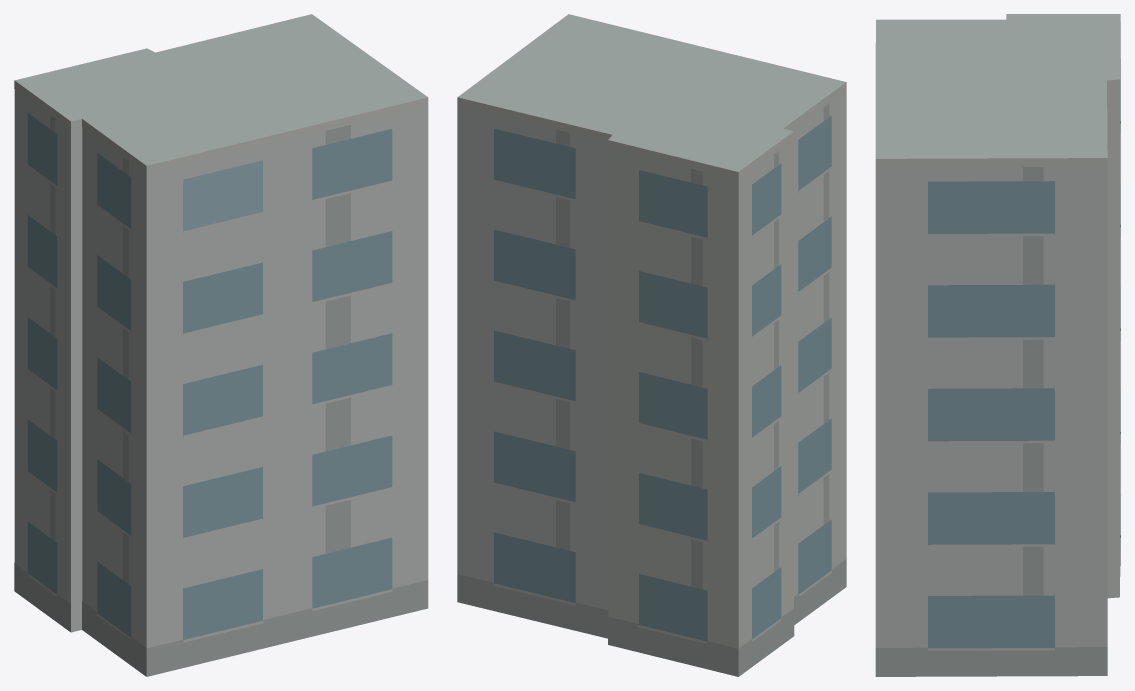
File: survey-upis-32911893.glb
3 renders of one model, left to right at view 1: azimuth 30°, elevation 25°; view 2: azimuth 150°, elevation 25°; view 3: azimuth 270°, elevation 25°, orthographic. The views are drawn at different scales.
Parts seen in each view (by area): view 1: survey-upis-32911893.tmp; view 2: survey-upis-32911893.tmp; view 3: survey-upis-32911893.tmp.
Boxes of the visible parts, box(x1,y1,x2,y2) form: survey-upis-32911893.tmp: box(14, 14, 428, 676); survey-upis-32911893.tmp: box(457, 14, 846, 676); survey-upis-32911893.tmp: box(875, 14, 1120, 676).
Size of the model in its own units: 8.72 by 14.5 by 6.24.
